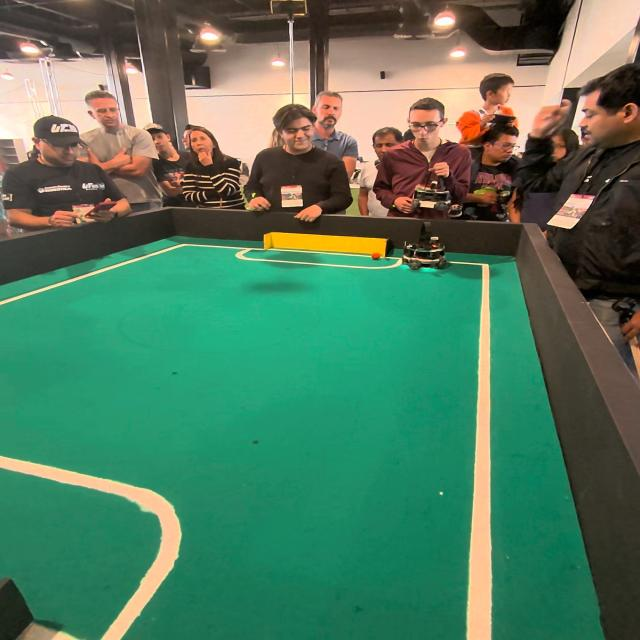Robot: (400, 220, 450, 274)
pelota: (365, 248, 389, 270)
